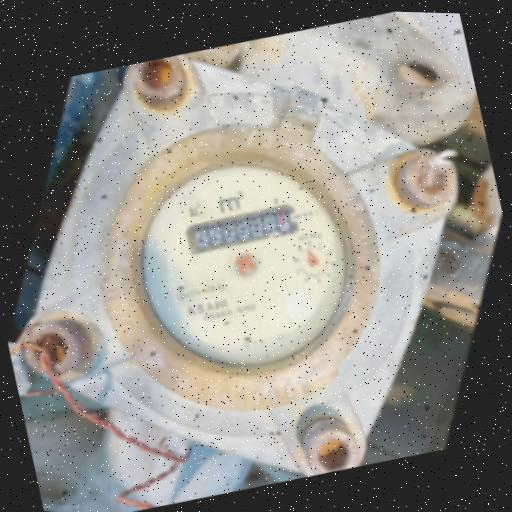0: (263, 211, 277, 233)
2: (193, 226, 210, 248), (208, 223, 222, 245)
8: (276, 209, 291, 236)
9: (249, 213, 263, 236), (235, 217, 249, 239), (223, 220, 236, 243)
border_water_meter_number: (184, 199, 302, 259)
